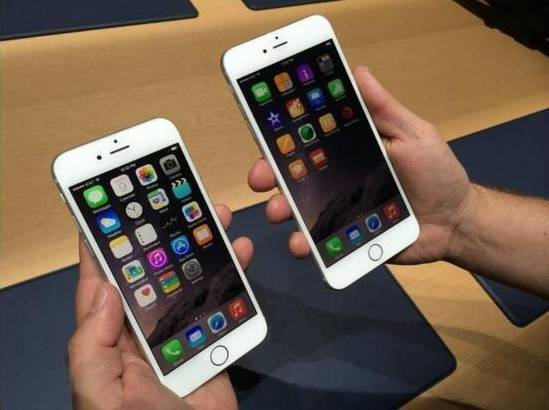phone: (60, 127, 275, 382), (240, 28, 432, 260)
